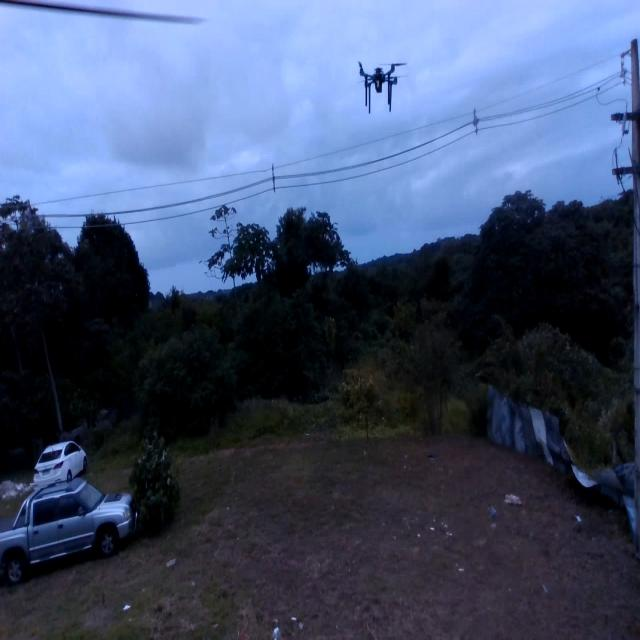-uav-: (353, 52, 408, 121)
